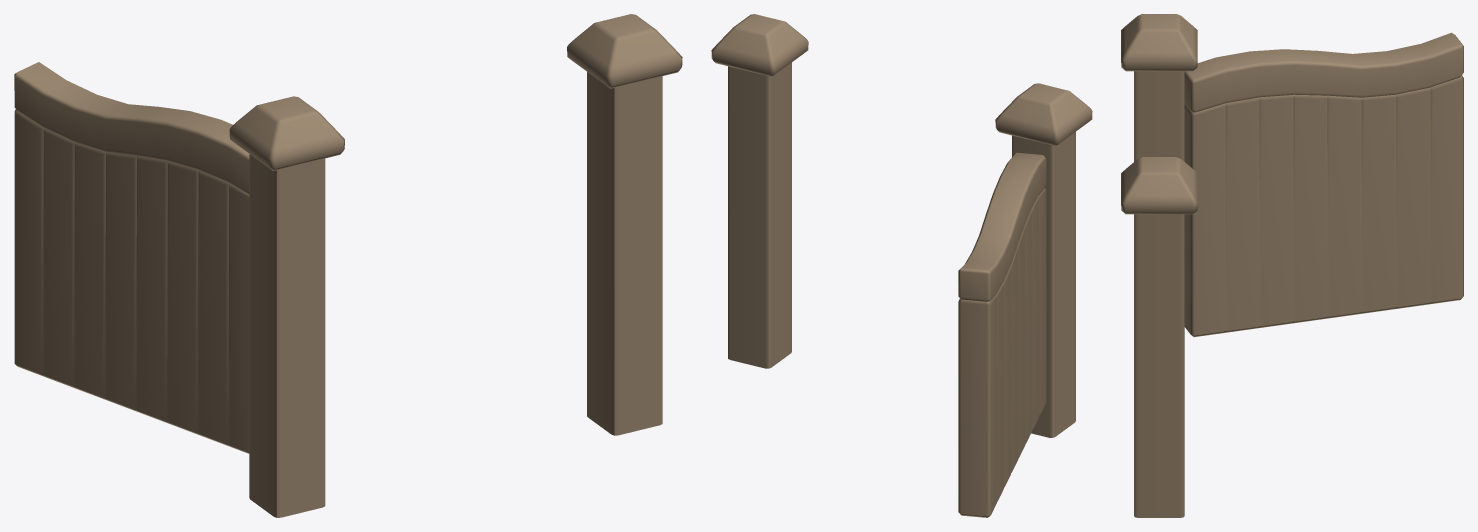
The model's file is GateOpener_MDL.fbx.
The picture shows the model from 3 angles, left to right: view 1: azimuth 30°, elevation 25°; view 2: azimuth 150°, elevation 25°; view 3: azimuth 270°, elevation 25°; orthographic projection. The views are drawn at different scales.
Visible parts, largest first — view 1: GateOpen_GEO; view 2: GateOpen_GEO; view 3: GateOpen_GEO.
Part boxes in pixels (x1,y1,x2,y2): GateOpen_GEO: [14, 14, 682, 517]; GateOpen_GEO: [711, 14, 1092, 517]; GateOpen_GEO: [1121, 14, 1463, 517].
Size of the model in its own units: 142 by 112 by 101.
